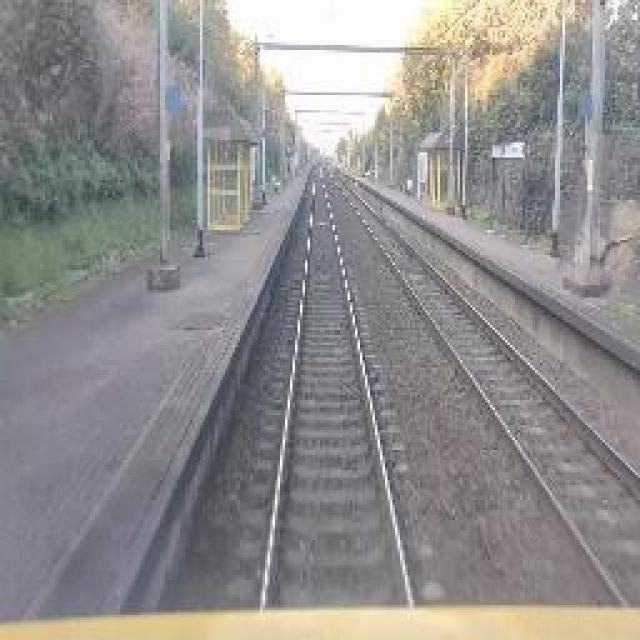rail: (217, 168, 461, 604)
